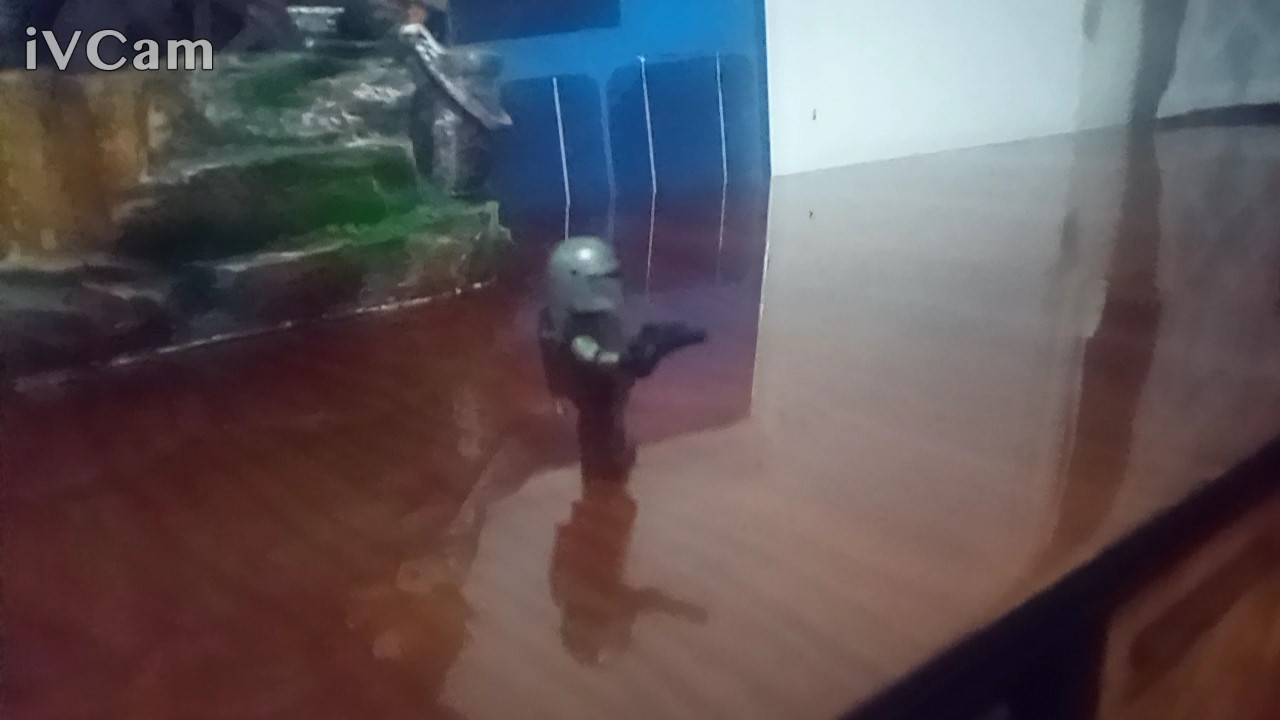mandalorian: (517, 222, 728, 511)
